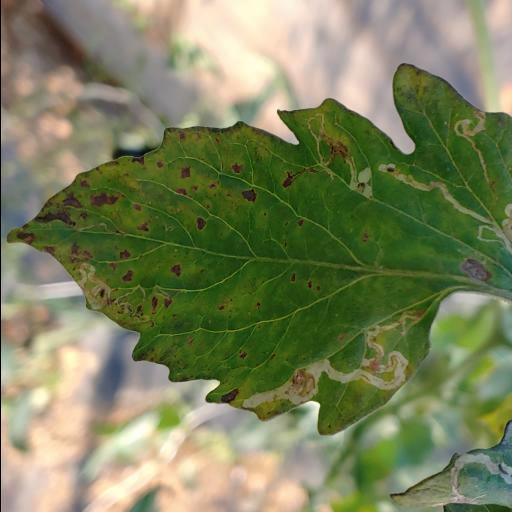disease_tomato: (4, 62, 512, 438)
